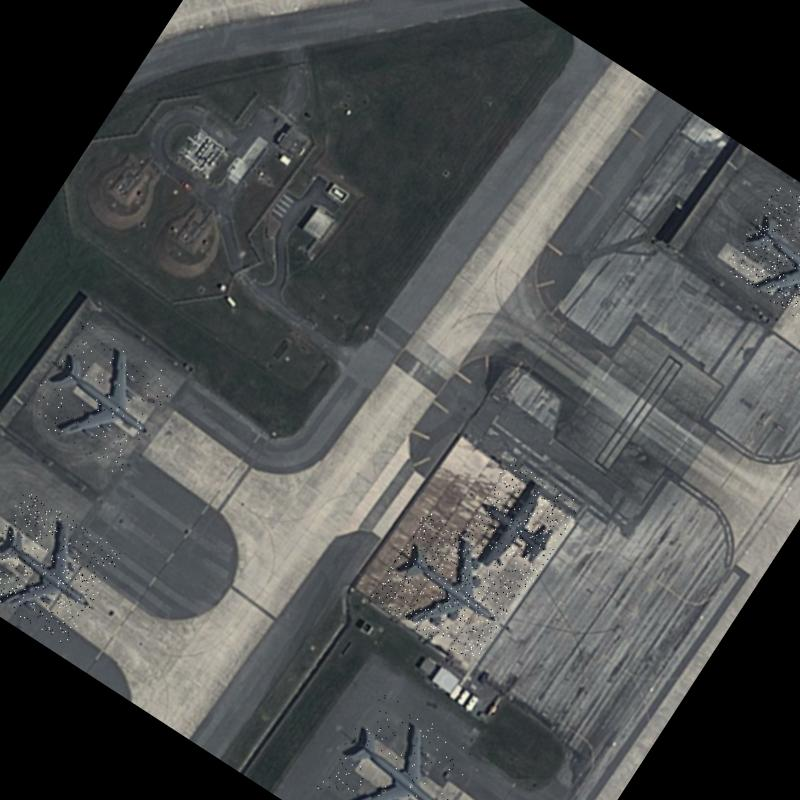A14: (19, 316, 181, 476), (368, 510, 530, 666), (0, 489, 125, 646), (313, 690, 478, 800), (722, 183, 800, 332)
A2: (451, 457, 584, 594)
